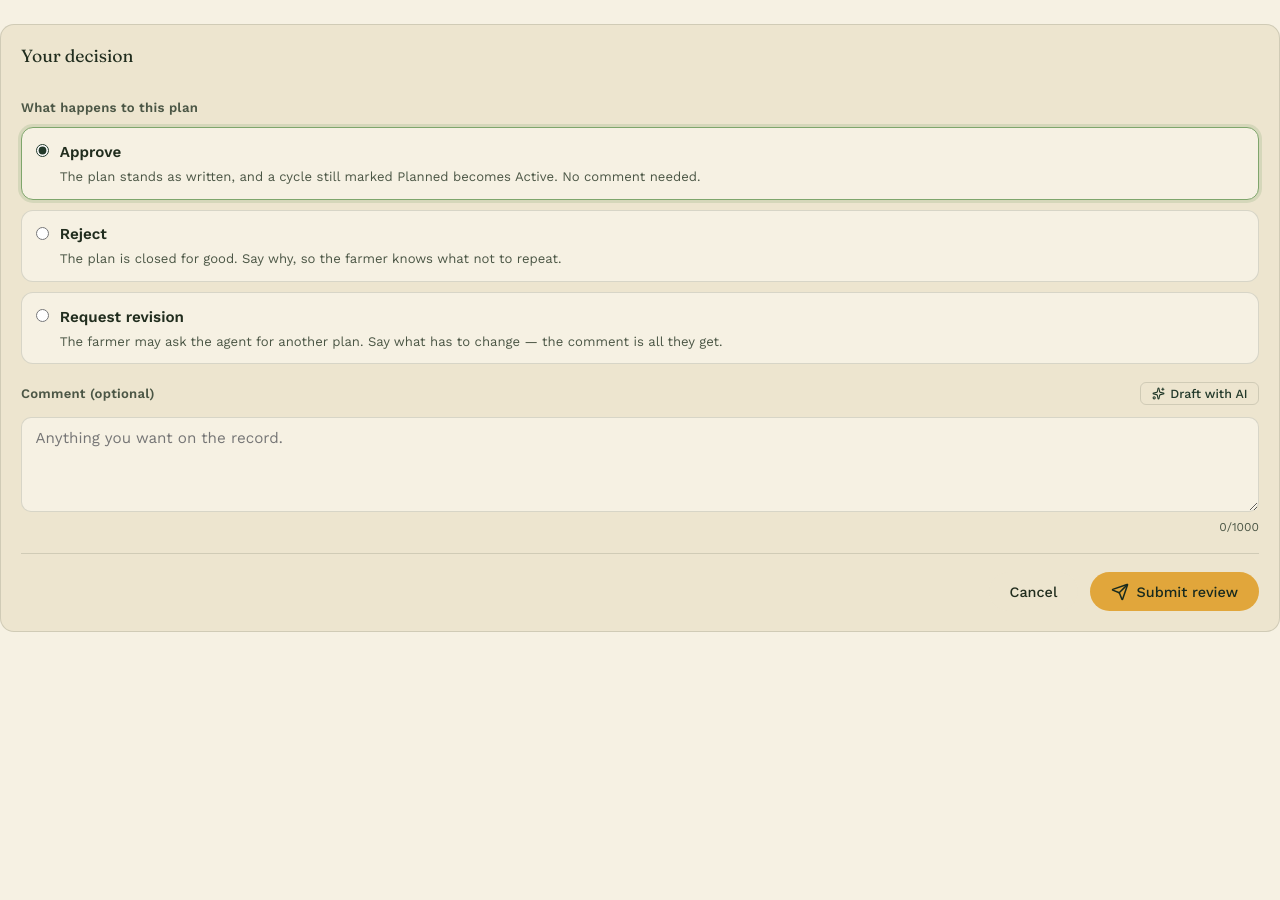
Test: PlanReviewForm › Draft with AI fills the comment from Component 4
Click the button "Draft with AI". click: (1200, 394)
box: [1140,382,1259,405]
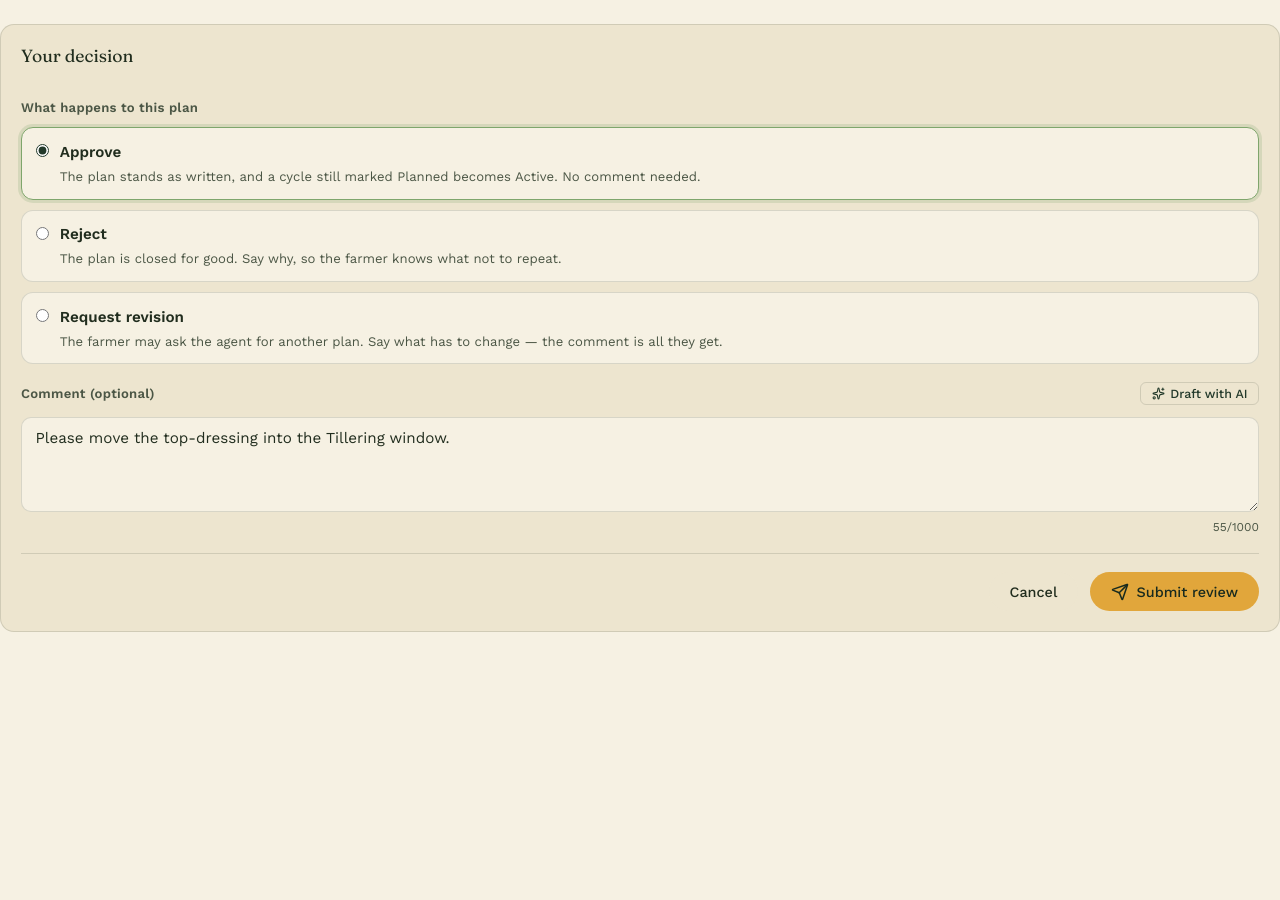
Now the text box holds "Please move the top-dressing into the Tillering window.", box [21,417,1259,512]
